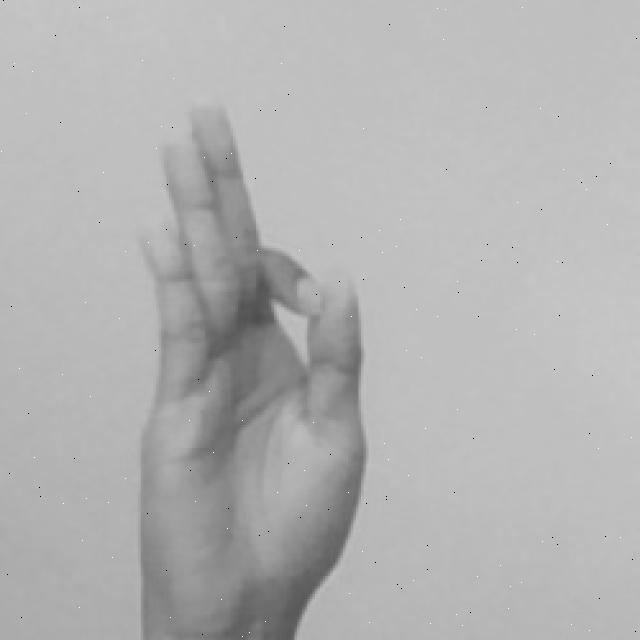F: (128, 97, 371, 640)
